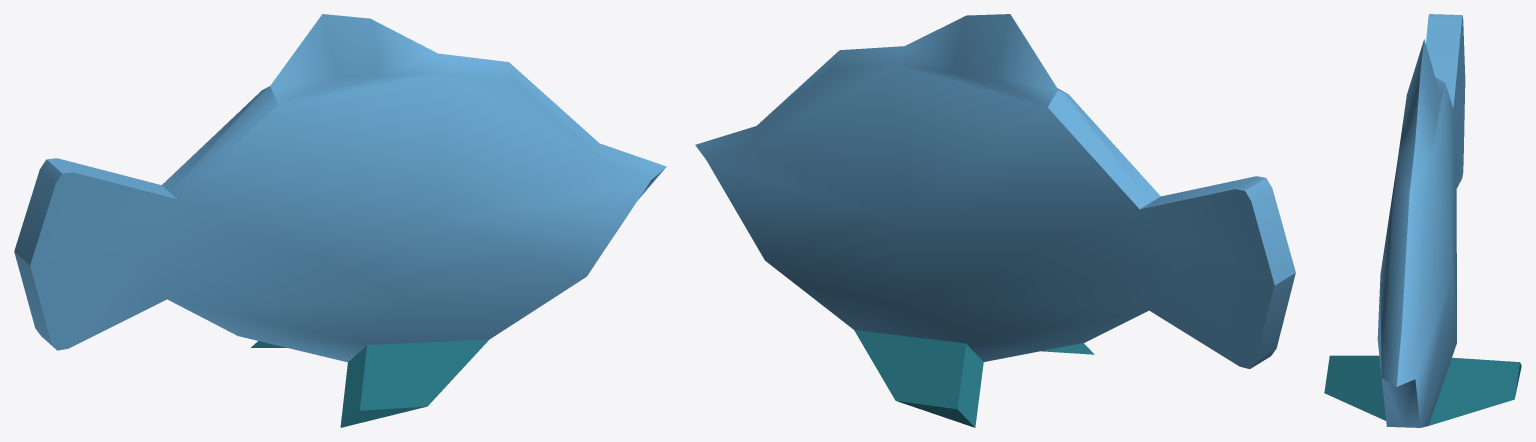
The model's file is Fish.fbx.
3 views of the same model, side by side, from view 1: azimuth 30°, elevation 25°; view 2: azimuth 150°, elevation 25°; view 3: azimuth 270°, elevation 25° (orthographic). The views are drawn at different scales.
Parts seen in each view (by area): view 1: polySurface19; view 2: polySurface19; view 3: polySurface19.
Boxes of the visible parts, x1=… form: polySurface19: x1=14, y1=14, x2=666, y2=427; polySurface19: x1=695, y1=14, x2=1295, y2=427; polySurface19: x1=1324, y1=14, x2=1521, y2=427.
Bounding box in the file's own units: 0.45 × 0.2566 × 0.1367.
